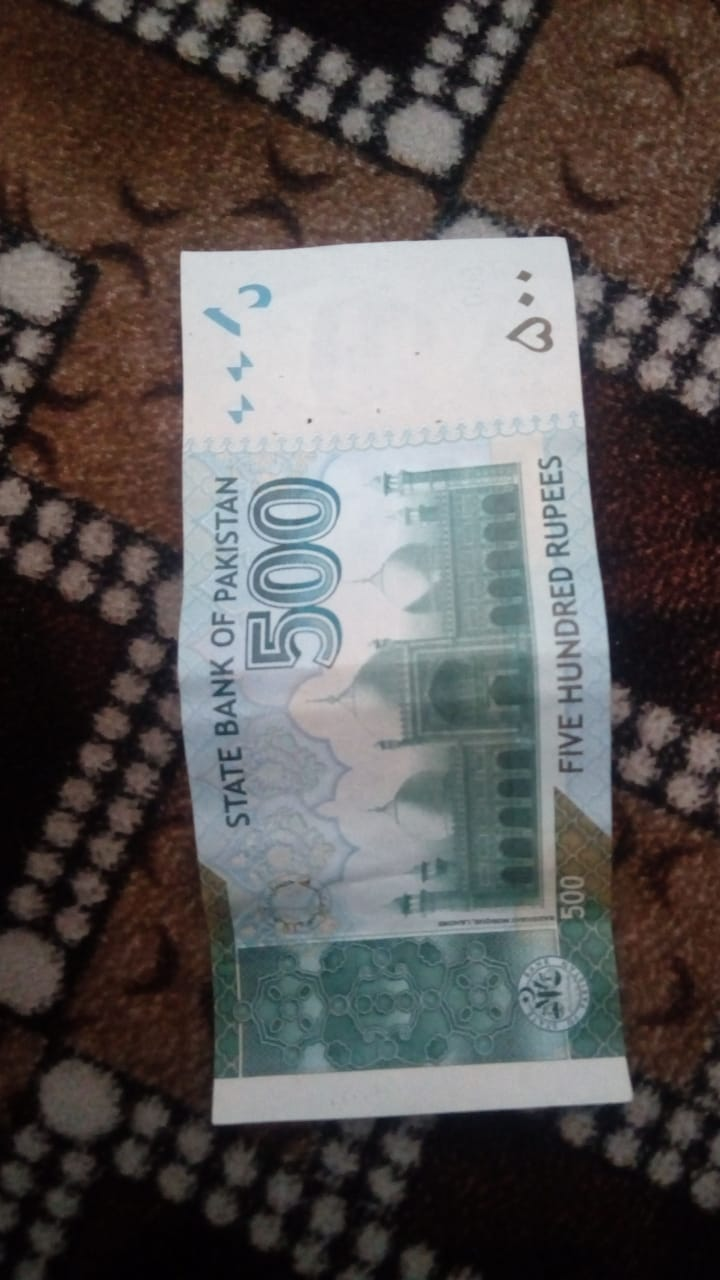500 rupee: (129, 231, 619, 1157)
